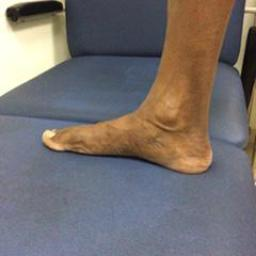Medial View -Right Foot-: (39, 70, 223, 187)
